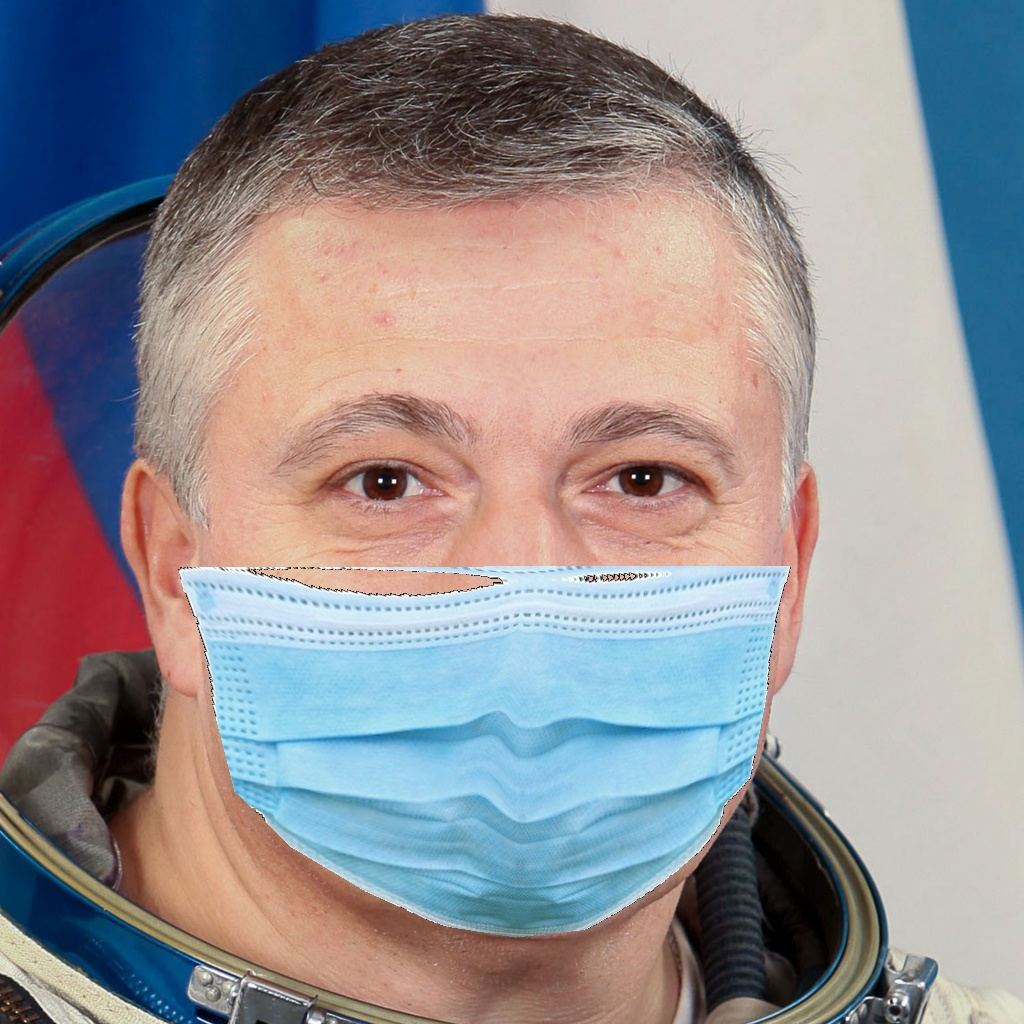Mask: (172, 367, 786, 939)
